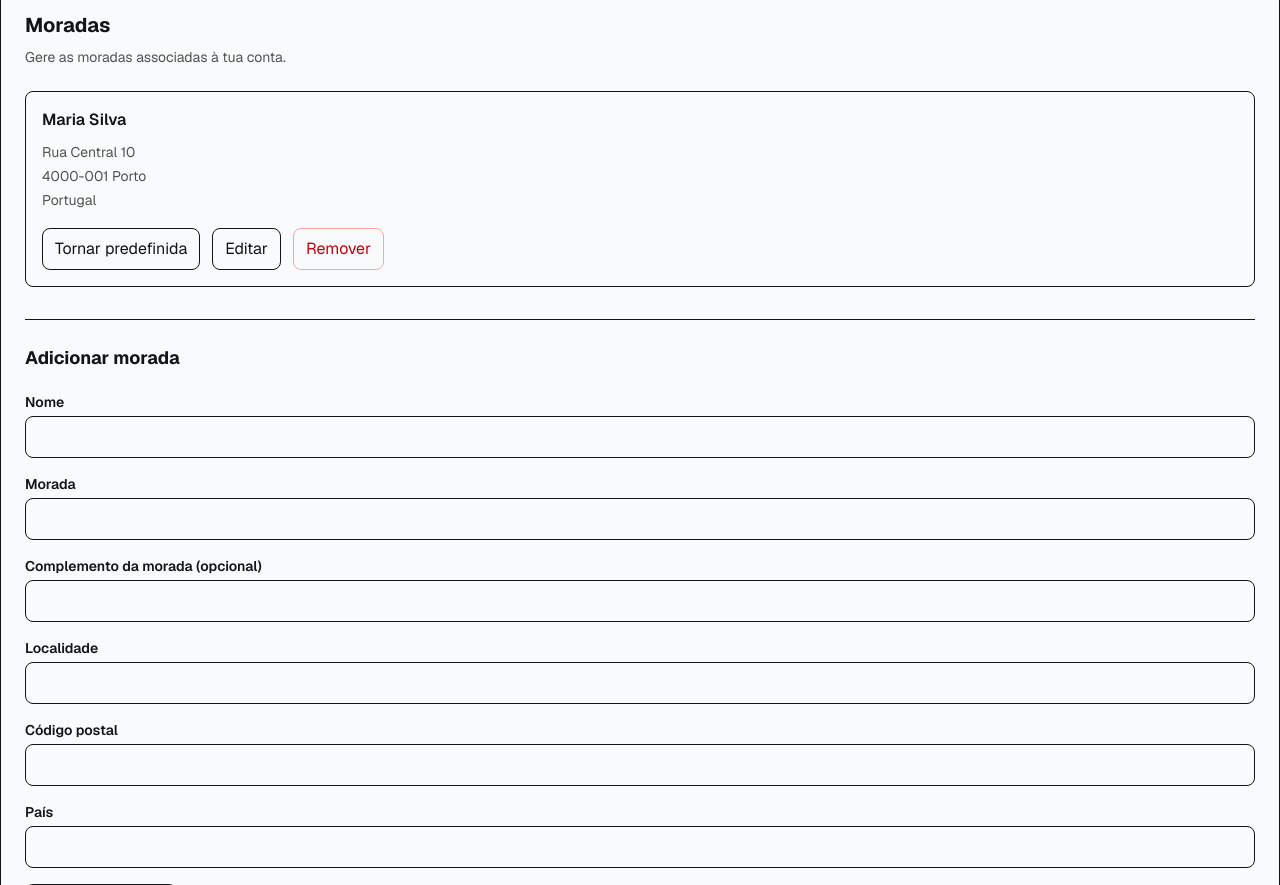
Test: AddressesClient › permite cancelar a edição sem alterar a morada
Expected: the text "Rua Central 10" is shown, [42,143,135,161]
Click the button "Editar": (247, 249) [212,228,281,270]
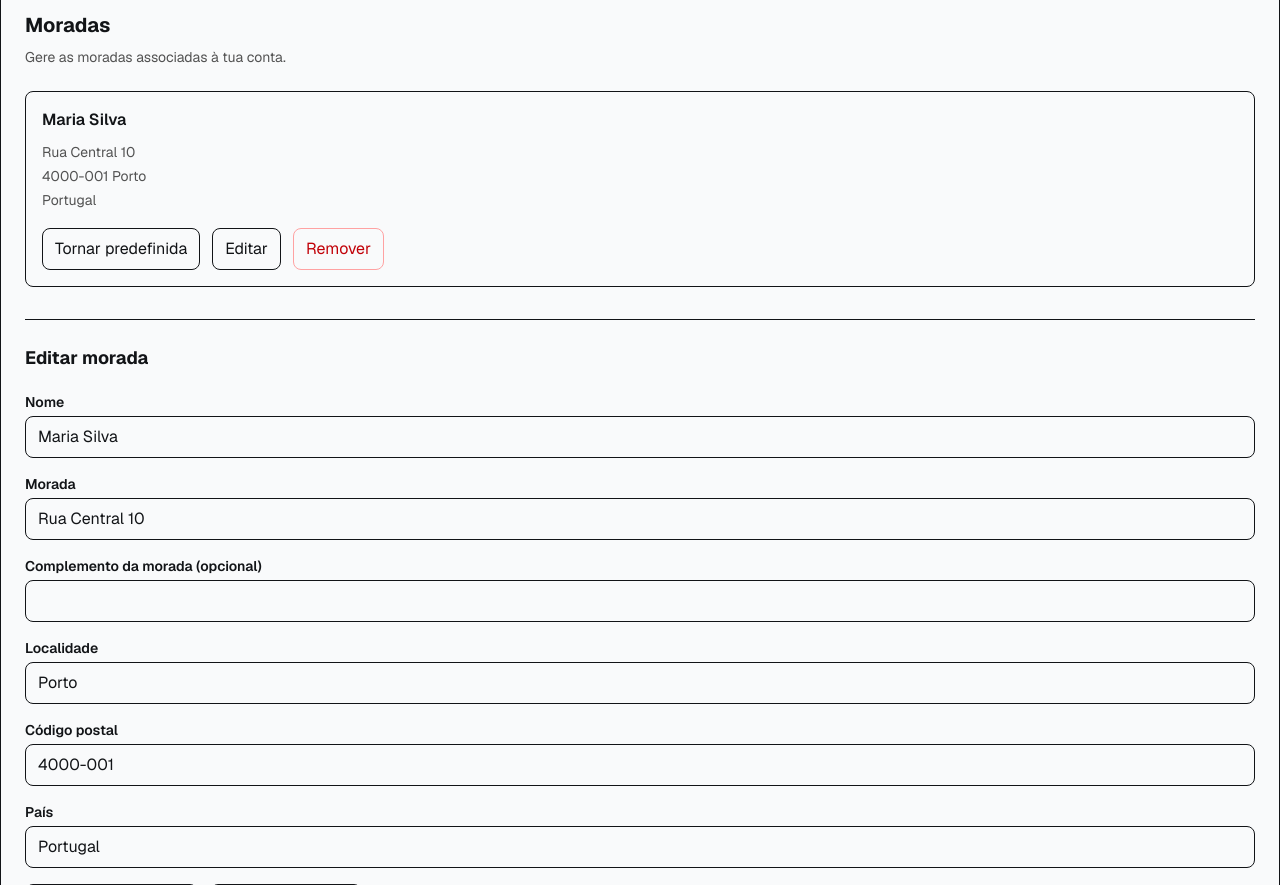
Replace the text in the field labelled "Localidade" with "Lisboa": (640, 683) [25,662,1255,704]
(page scrolled)
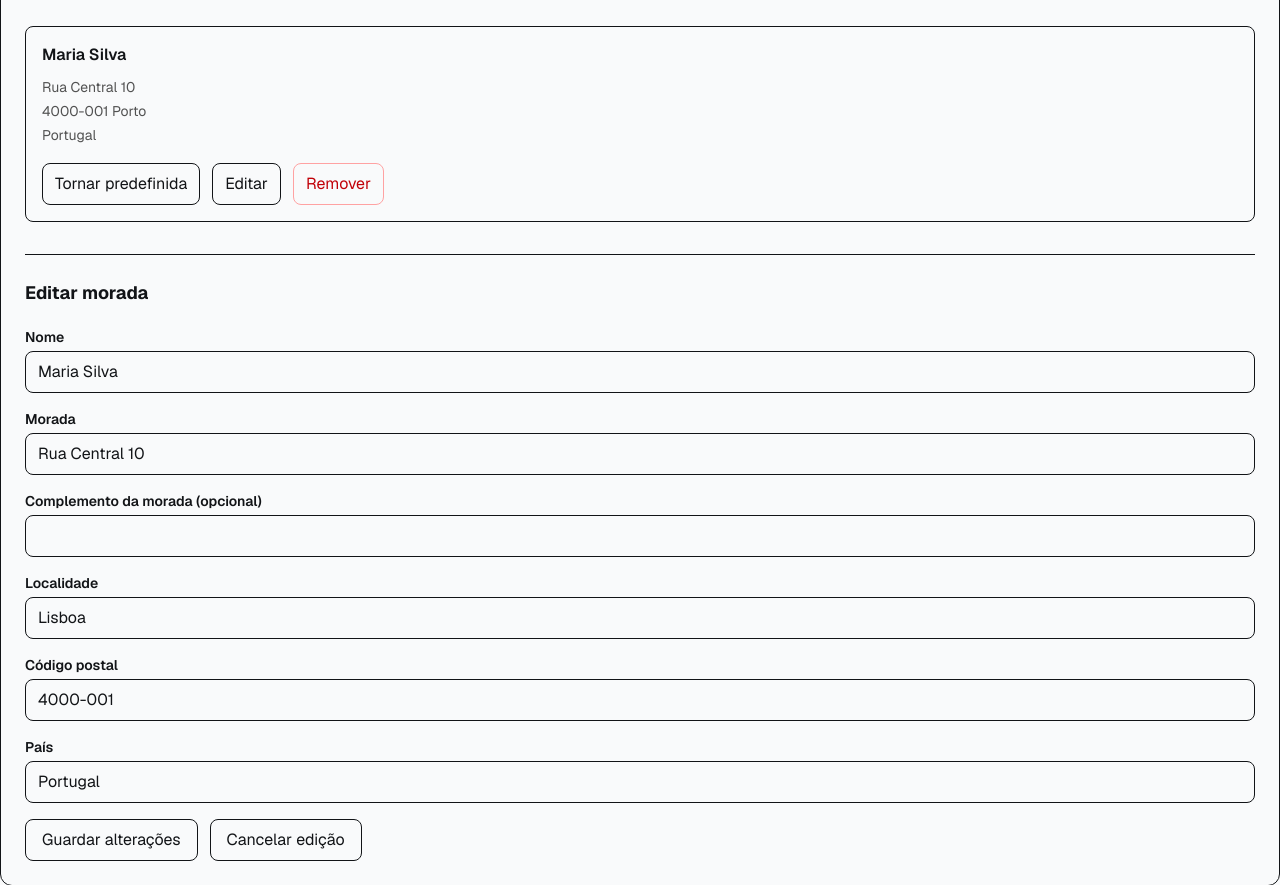
Click the button "Cancelar edição": (286, 840) [210,819,362,861]
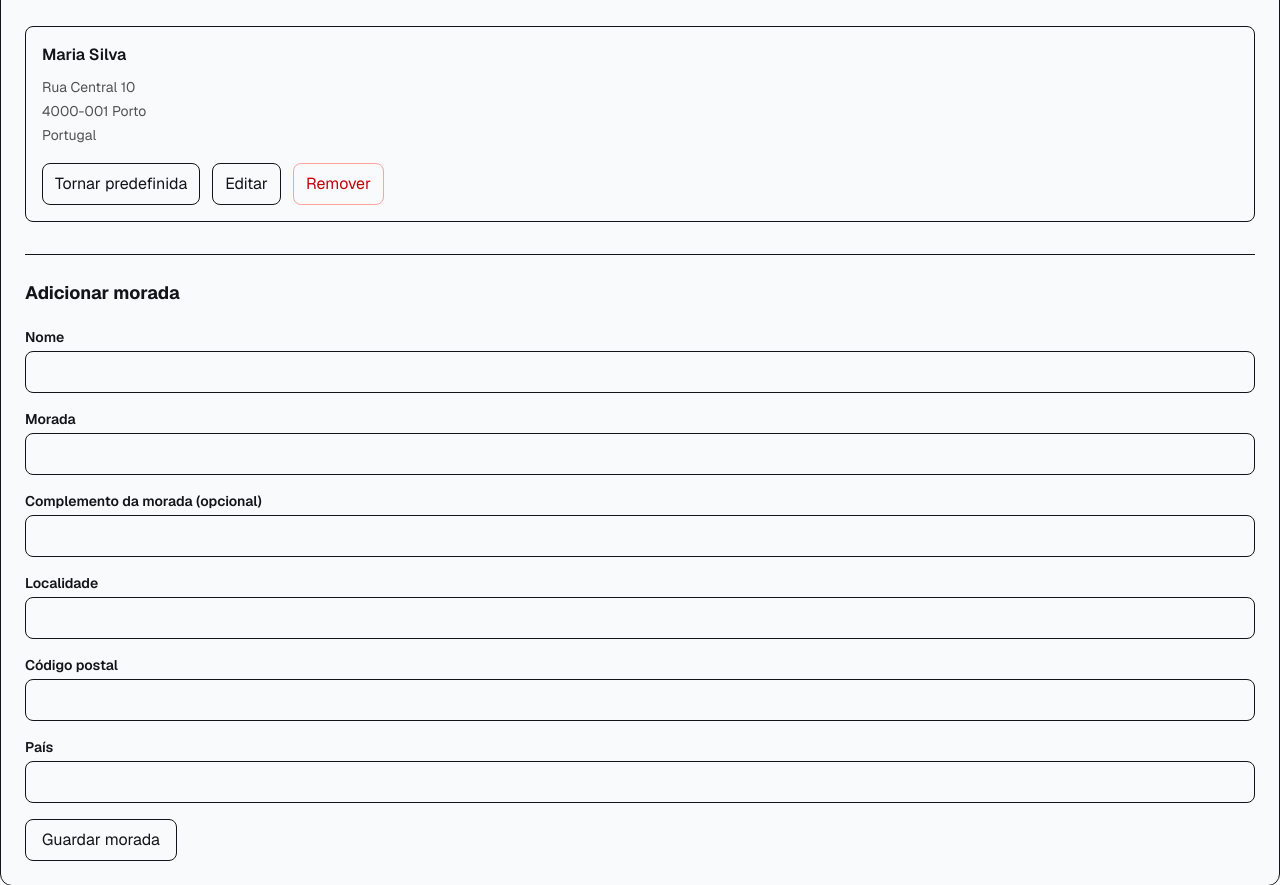
Expected: the text "4000-001 Porto" is shown, [42,102,146,120]
Expected: the heading "Adicionar morada" is shown, [25,281,180,304]
Expected: the field labelled "Localidade" is empty, [25,597,1255,639]
